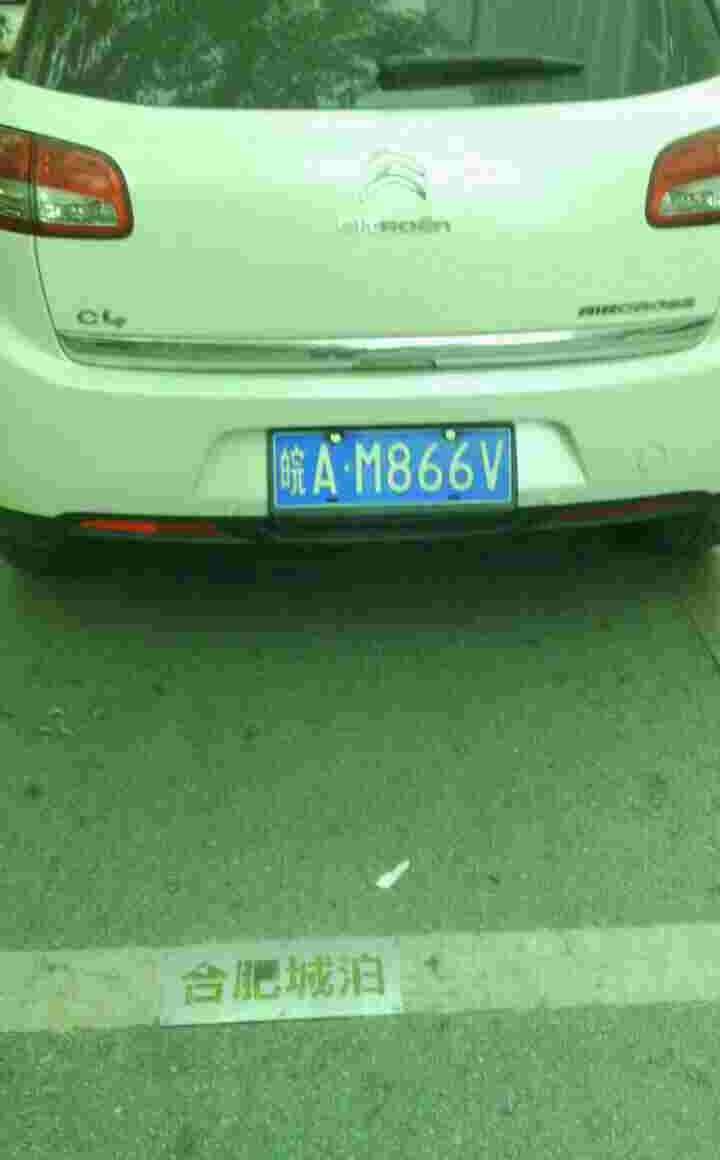license_plate: (285, 437, 519, 504)
